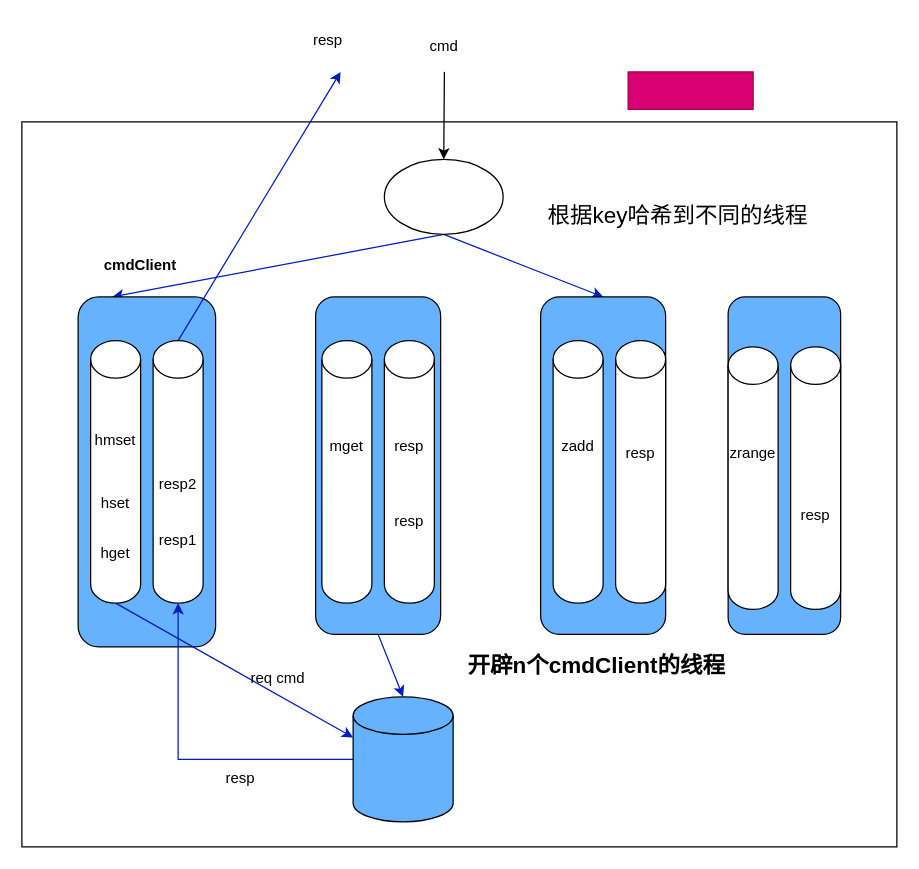
The diagram is 919 pixels wide and 869 high, and some of its shapes have lost their labels. Here are the shapes that lost their labels. From the top down, the centre of each, then its label:
At [690,90]: "asyncClient".
At [443,196]: "hash".
At [402,759]: "redis".
